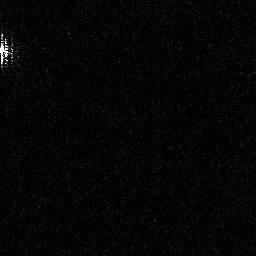ship: (1, 29, 17, 68)
